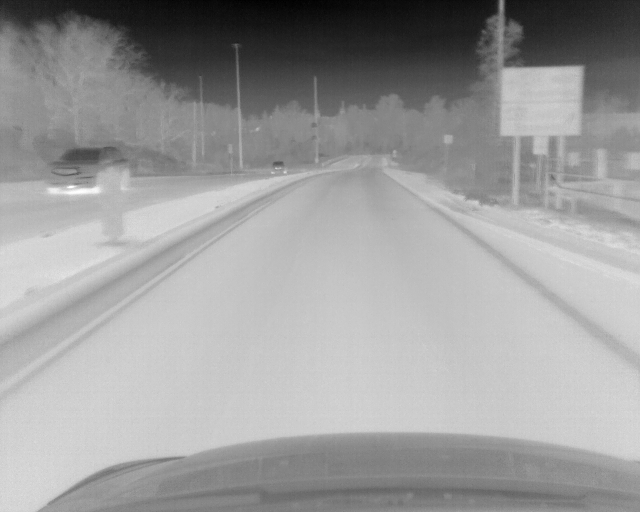car: (48, 146, 131, 191), (270, 161, 286, 175)
